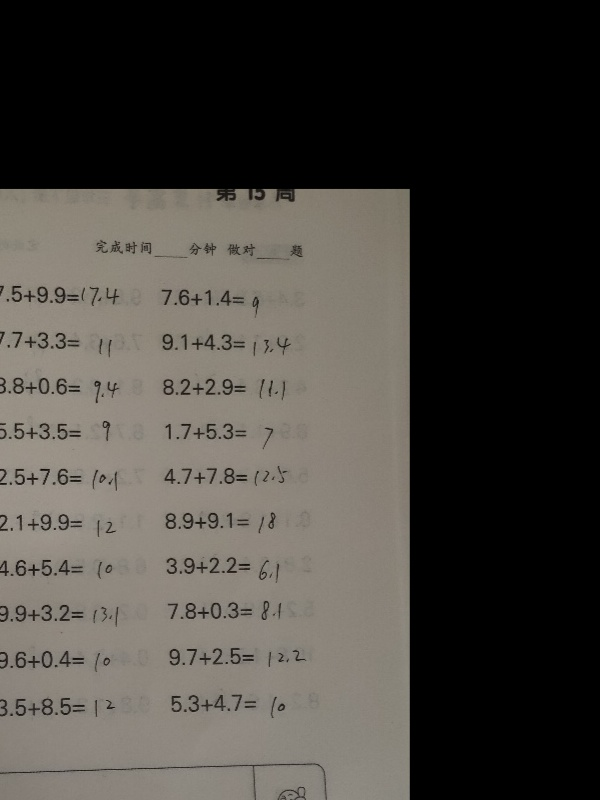equation: (159, 550, 289, 588), (154, 280, 283, 318), (150, 328, 301, 358), (162, 416, 287, 448), (0, 645, 122, 677), (165, 643, 308, 670), (0, 372, 130, 401), (158, 461, 295, 488), (159, 373, 289, 401), (0, 602, 129, 630), (167, 690, 288, 719), (0, 509, 120, 538), (0, 417, 123, 445), (161, 508, 279, 536), (0, 464, 122, 491), (0, 282, 122, 309), (0, 327, 115, 355), (0, 694, 119, 721), (0, 556, 116, 581), (159, 601, 298, 621)
